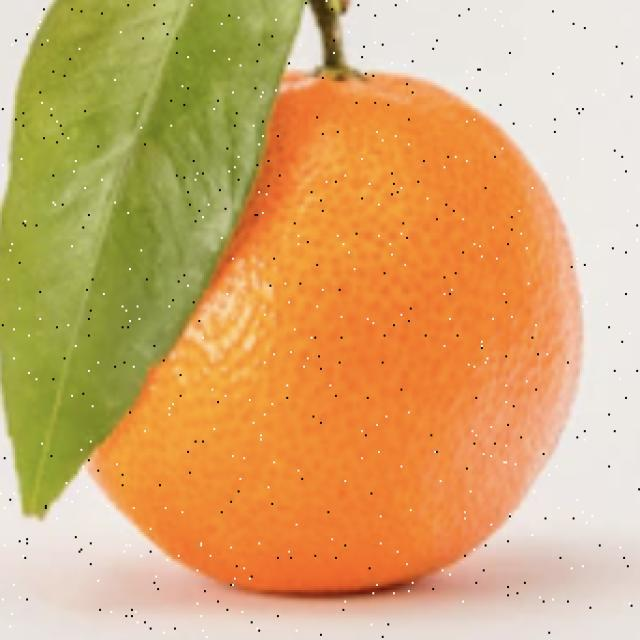Orange: (85, 65, 584, 595)
